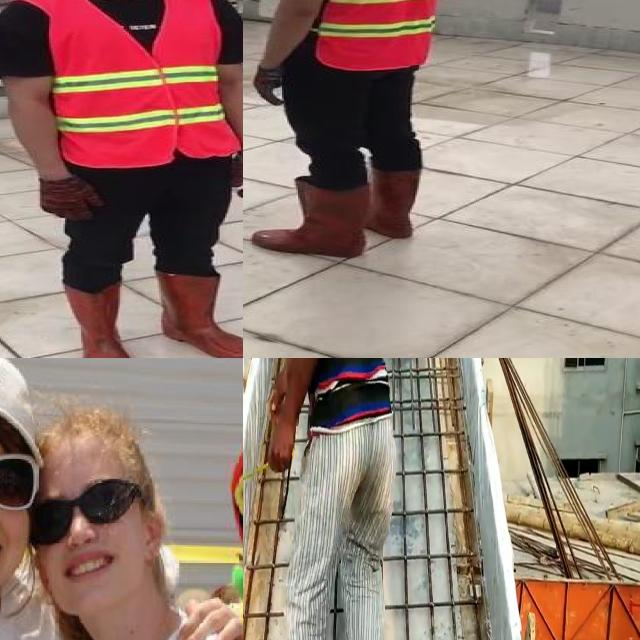boots: (253, 182, 371, 257), (155, 273, 243, 358), (61, 284, 143, 358), (358, 170, 421, 238)
face_nomask: (33, 483, 128, 584), (0, 447, 29, 574)
glasses: (23, 478, 144, 551), (0, 445, 39, 516)
hand_glove: (38, 175, 104, 220), (252, 67, 286, 105), (230, 153, 243, 199)
hand_noglove: (176, 594, 243, 640), (266, 376, 299, 467)
head_nohelmet: (28, 402, 134, 480), (0, 358, 42, 456)
person: (243, 0, 468, 260), (32, 420, 243, 640), (0, 379, 76, 640)
vest: (41, 0, 239, 166), (312, 0, 452, 69)
